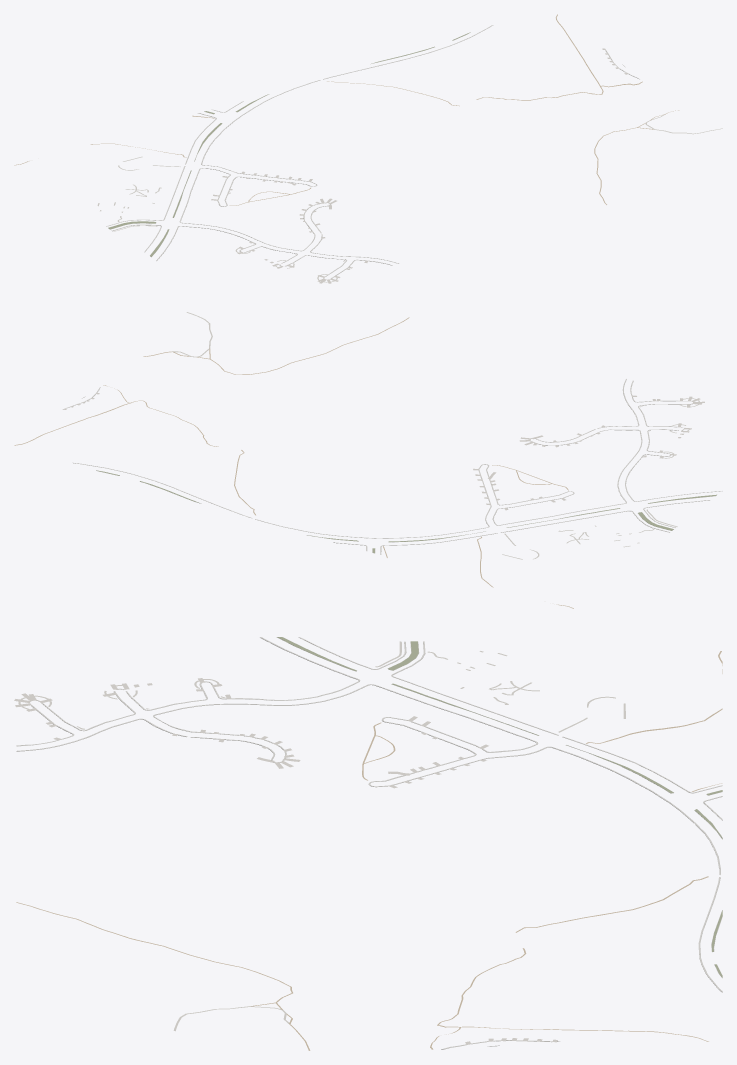
The model's file is ground_r6_c5.glb.
3 views of the same model, one above another, from view 1: azimuth 30°, elevation 25°; view 2: azimuth 150°, elevation 25°; view 3: azimuth 270°, elevation 25° (orthographic). The views are drawn at different scales.
Visible parts, largest first — view 1: sidewalks, paths, driveways, medians; view 2: sidewalks, paths, driveways, medians; view 3: sidewalks, paths, driveways, medians.
Part boxes in pixels (x1,y1,x2,y2): sidewalks: [106, 25, 639, 278]; paths: [14, 14, 722, 282]; driveways: [211, 48, 628, 283]; medians: [108, 32, 470, 256]; sidewalks: [63, 379, 722, 554]; paths: [14, 312, 699, 608]; driveways: [63, 393, 704, 510]; medians: [96, 470, 716, 553]; sidewalks: [16, 637, 722, 1049]; paths: [16, 641, 722, 1050]; driveways: [14, 678, 557, 1044]; medians: [277, 637, 722, 977].
Size of the model in its own units: 1127 by 57.11 by 791.
